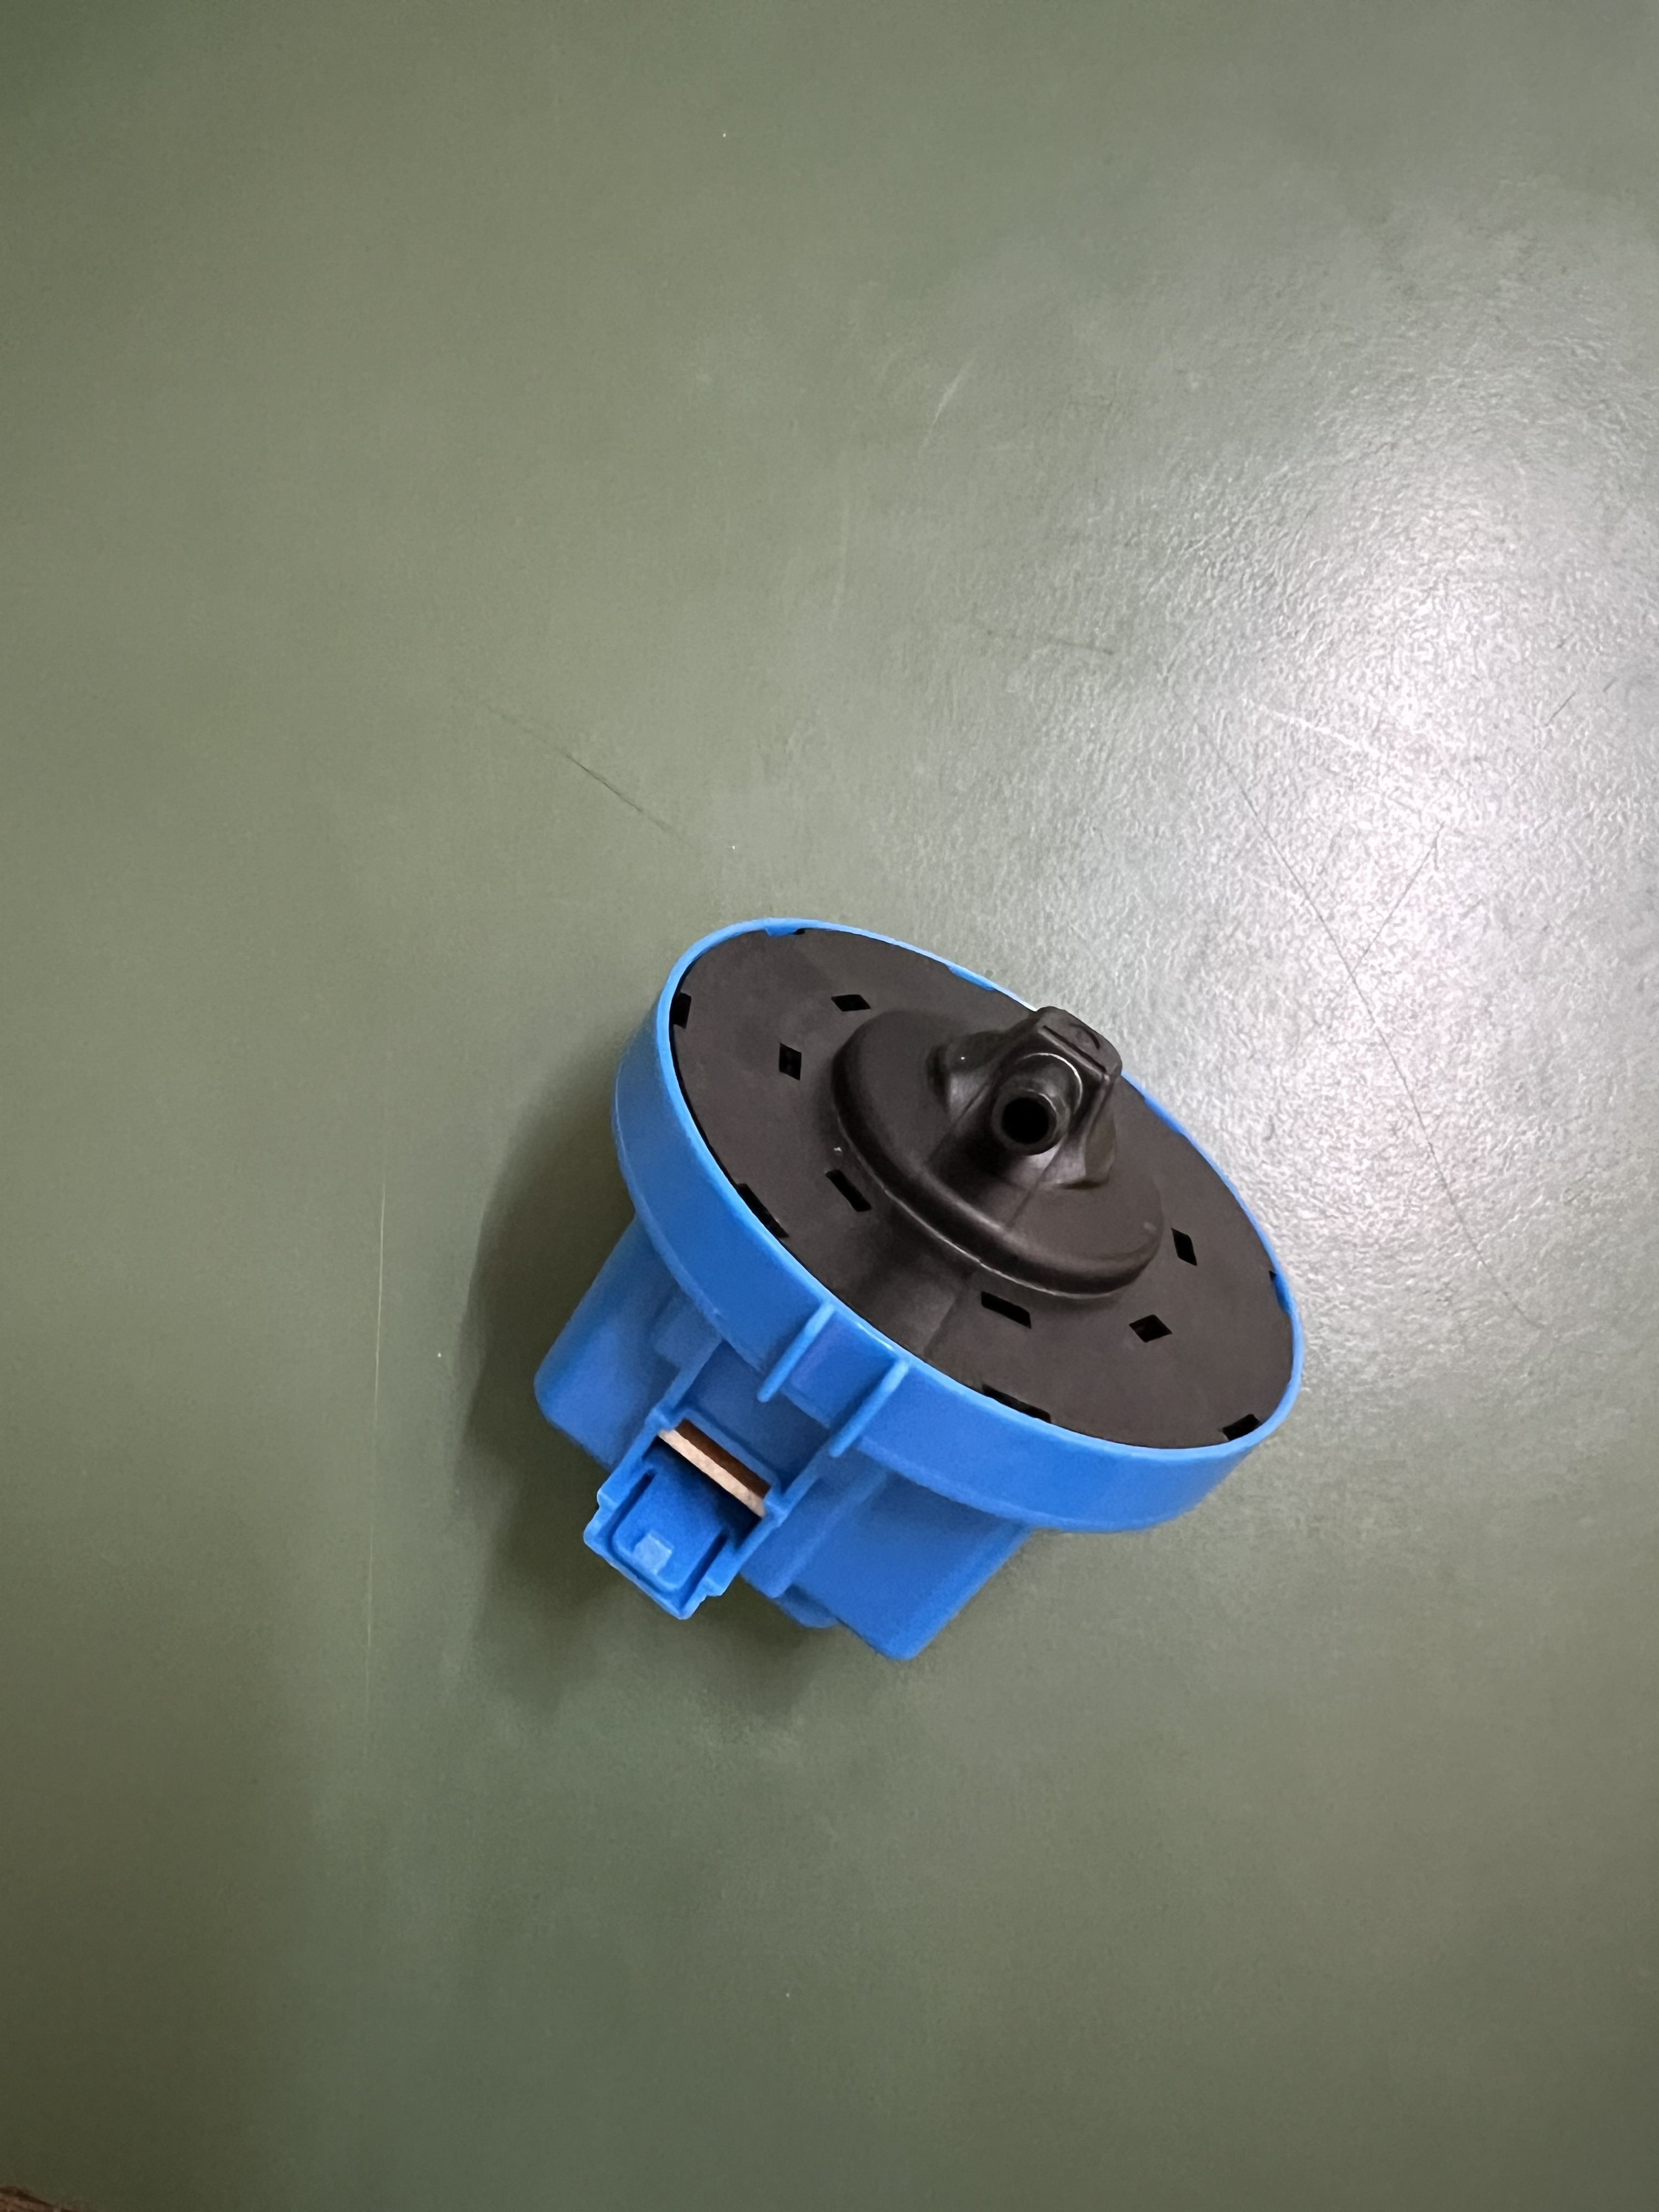voltas_beko_pressure_switch: (448, 907, 1345, 1733)
